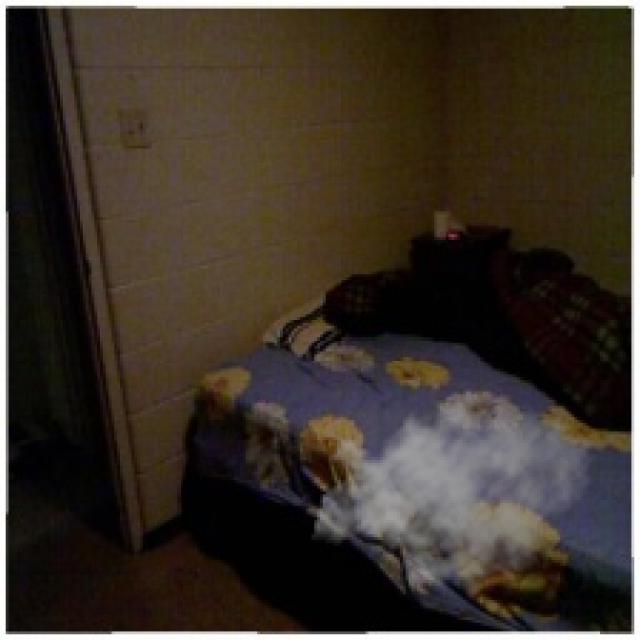smoke: (312, 380, 594, 597)
